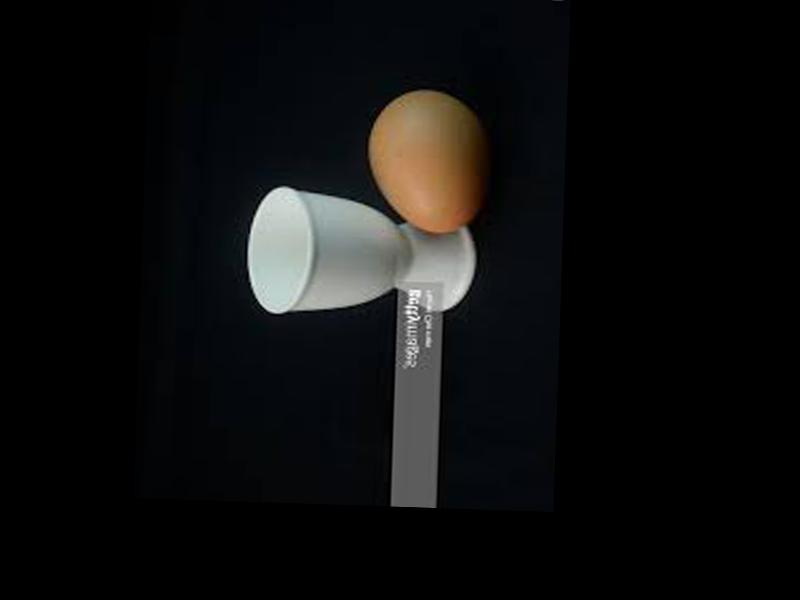Eggs: (365, 89, 485, 235)
